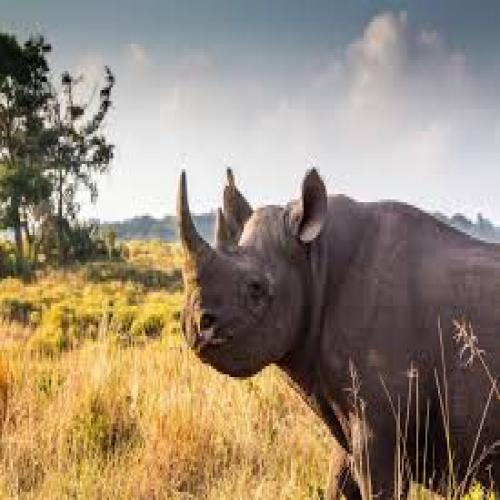rhino-endangered: (175, 159, 500, 500)
